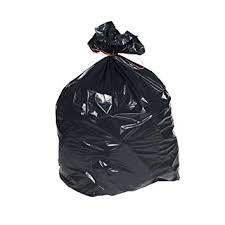Trash: (44, 19, 189, 198)
